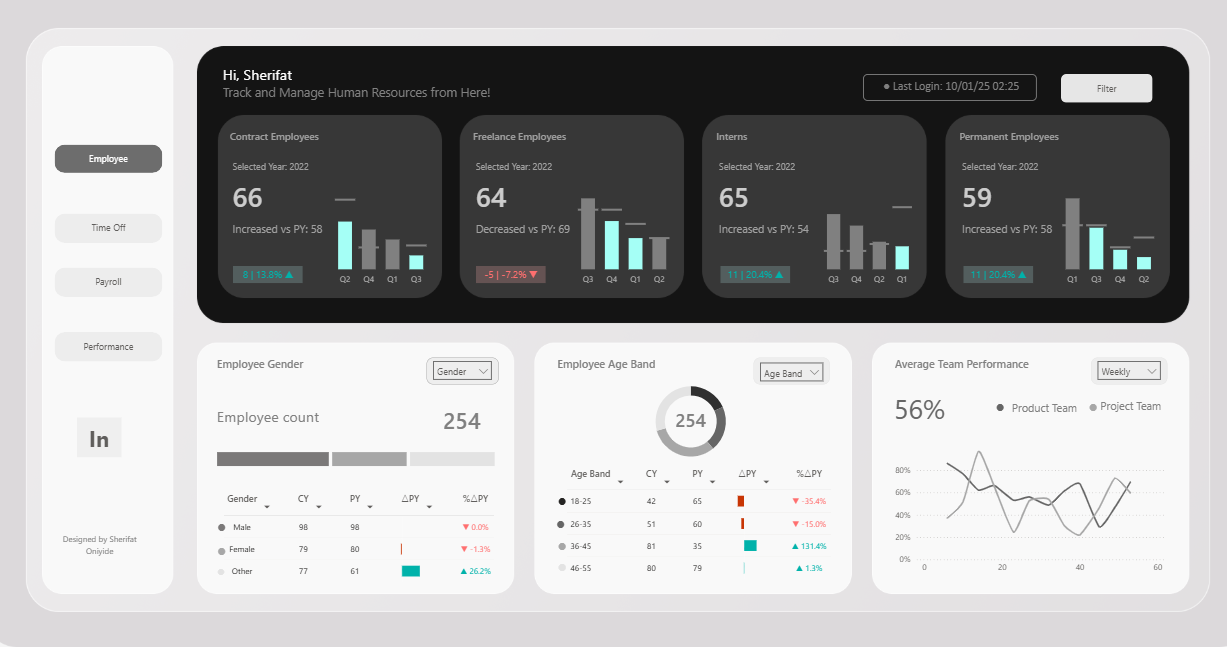

What the dashboard file says about the page in this screenshot:
{"tool":"powerbi","page":{"name":"Page 1","canvas":[1882,980],"ordinal":0},"visuals":[{"type":"textbox","box":[350.4,105,521.9,83.9],"z":0},{"type":"PBI_CV_9272D058_BEA0_476A_B090_A712545F92FA","fields":{"targets":["measure.PreviousYear"],"Category":["Date Table.Quarter"],"Value":["measure.CurrentYear"]},"box":[500,295,175,164.2],"z":1000},{"type":"cardVisual","fields":{"Data":["measure.CurrentYear"],"Rows":["new dataset.Employee Type"]},"box":[331.7,187,1489.4,269.4],"z":2000},{"type":"card","fields":{"Values":["measure.PY Values With Arrows"]},"box":[370,410,103,25],"z":3000},{"type":"card","fields":{"Values":["measure.PY Values With Arrows"]},"box":[730,410,103,25],"z":4000},{"type":"card","fields":{"Values":["measure.PY Values With Arrows"]},"box":[1093,410,103,25],"z":5000},{"type":"card","fields":{"Values":["measure.PY Values With Arrows"]},"box":[1453,410,103,25],"z":6000},{"type":"PBI_CV_9272D058_BEA0_476A_B090_A712545F92FA","fields":{"targets":["measure.PreviousYear"],"Category":["Date Table.Quarter"],"Value":["measure.CurrentYear"]},"box":[862,295,175,164.2],"z":7000},{"type":"PBI_CV_9272D058_BEA0_476A_B090_A712545F92FA","fields":{"targets":["measure.PreviousYear"],"Category":["Date Table.Quarter"],"Value":["measure.CurrentYear"]},"box":[1227,306.1,169.7,153],"z":8000},{"type":"PBI_CV_9272D058_BEA0_476A_B090_A712545F92FA","fields":{"targets":["measure.PreviousYear"],"Category":["Date Table.Quarter"],"Value":["measure.CurrentYear"]},"box":[1580,295,175.3,164.2],"z":9000},{"type":"card","title":" Current date","fields":{"Values":["measure.Current DateTime"]},"box":[1304.5,124.8,258.1,39.7],"z":10000},{"type":"actionButton","title":" Open Fiter","box":[1599.4,124.8,136.1,42.5],"z":16000},{"type":"actionButton","box":[104.6,229.3,160.3,42.3],"z":17000},{"type":"actionButton","box":[104.4,332.7,160.3,43.7],"z":18000},{"type":"actionButton","box":[105,412.8,160.3,43.7],"z":19000},{"type":"actionButton","box":[105,507.5,160.3,43.7],"z":20000},{"type":"actionButton","box":[139,634,66,59],"z":21000},{"type":"textbox","box":[91,800,161,63],"z":22000},{"type":"card","fields":{"Values":["Sum(new dataset.Employee Count)"]},"box":[662,601,96,74],"z":23000},{"type":"tableEx","fields":{"Values":["GenderSortTable.Gender","measure.table spacer","measure.CurrentYear","measure.table spacer","measure.PreviousYear","measure.table spacer","measure.Diff","measure.table spacer","measure.%Diff"]},"box":[349.1,732.5,420.5,190.4],"z":23000,"group":"g1"},{"type":"hundredPercentStackedBarChart","fields":{"Series":["GenderSortTable.Gender"],"Y":["CountNonNull(new dataset.Employee Count)"]},"box":[340,651,422,84],"z":24000},{"type":"textbox","box":[340,612,237,57],"z":25000},{"type":"textbox","box":[340,544,175,62],"z":26000},{"type":"card","title":" slicer empty card visual","fields":{"Values":["measure.Blank"]},"box":[657,546,107,40],"z":27000},{"type":"slicer","title":" employee card","fields":{"Values":["emp parameter.emp parameter"]},"box":[656.8,541,106.9,40.1],"z":28000},{"type":"card","title":" slicer empty card visual","fields":{"Values":["measure.Blank"]},"box":[1143,546,113,40],"z":29000},{"type":"tableEx","fields":{"Values":["AgeBandSortTable.Age Band","measure.table spacer","measure.CurrentYear","measure.table spacer","measure.PreviousYear","measure.table spacer","measure.Diff","measure.table spacer","measure.%Diff"]},"box":[859.4,694,420.8,202.6],"z":29000,"group":"g4"},{"type":"slicer","title":"Slicer agenand","fields":{"Values":["emp age band.emp age band"]},"box":[1142.1,543.2,113,40.1],"z":30000},{"type":"donutChart","fields":{"Category":["AgeBandSortTable.Age Band"],"Y":["CountNonNull(new dataset.Employee Count)"]},"box":[923.9,569.9,249.4,140.3],"z":31000},{"type":"card","fields":{"Values":["Sum(new dataset.Employee Count)"]},"box":[1013,612.2,71.2,53.4],"z":32000},{"type":"textbox","box":[845,544,173.7,51.2],"z":33000},{"type":"card","title":" slicer empty card visual","fields":{"Values":["measure.Blank"]},"box":[1643,545.5,113,40.1],"z":34000},{"type":"textbox","box":[340,808,29,67],"z":35000},{"type":"lineChart","fields":{"Category":["Date Table.Week Number"],"Y":["measure.AveragePerformanceByTeam"],"Series":["new dataset.Team"]},"box":[1346.9,670.1,409.6,204.8],"z":36000},{"type":"textbox","box":[846,733.9,25,55.7],"z":36000,"group":"g4"},{"type":"slicer","fields":{"Values":["line parameter.line parameter"]},"box":[1643,541,113,40.1],"z":37000},{"type":"textbox","box":[843,768.1,24.8,45],"z":37000,"group":"g4"},{"type":"card","fields":{"Values":["measure.AveragePerformanceByTeam"]},"box":[1326.9,563.3,122.4,113.5],"z":38000},{"type":"textbox","box":[340.6,772.3,28.6,57.2],"z":38000,"group":"g1"},{"type":"textbox","box":[1346.9,538.8,251.6,57.9],"z":39000},{"type":"textbox","box":[846,800.7,25,59.5],"z":39000,"group":"g4"},{"type":"group","id":"g1","title":"Group 1","box":[340.6,732.5,429.7,207.1],"z":40000},{"type":"textbox","box":[846,831.8,25,44.6],"z":40000,"group":"g4"},{"type":"textbox","box":[340.6,841.5,42.8,99.4],"z":40000,"group":"g1"},{"type":"group","id":"g2","title":"Group 2","box":[1635,594.4,138,80.1],"z":41000},{"type":"group","id":"g3","title":"Group 3","box":[1495,594.2,146.6,70.7],"z":42000},{"type":"group","id":"g4","title":"Group 4","box":[843,694,437.2,202.6],"z":43000},{"type":"textbox","box":[1653.2,601.6,119.8,37.4],"z":45000,"group":"g2"},{"type":"textbox","box":[1518.6,602.1,123,62.8],"z":46000,"group":"g3"},{"type":"textbox","box":[1495,594.2,39.3,55],"z":47000,"group":"g3"},{"type":"textbox","box":[1635,594.4,33.8,80.1],"z":48000,"group":"g2"}]}

Visuals, with their boxes in screenshot pixels (x1, y1, x2, y2), scaled from the page's 1882x980 canvas onto the 1227x647 screenshot:
textbox: (228,69,569,125)
PBI_CV_9272D058_BEA0_476A_B090_A712545F92FA - measure.PreviousYear x Date Table.Quarter: (326,195,440,303)
cardVisual - measure.CurrentYear x new dataset.Employee Type: (216,123,1187,301)
card - measure.PY Values With Arrows: (241,271,308,287)
card - measure.PY Values With Arrows: (476,271,543,287)
card - measure.PY Values With Arrows: (713,271,780,287)
card - measure.PY Values With Arrows: (947,271,1014,287)
PBI_CV_9272D058_BEA0_476A_B090_A712545F92FA - measure.PreviousYear x Date Table.Quarter: (562,195,676,303)
PBI_CV_9272D058_BEA0_476A_B090_A712545F92FA - measure.PreviousYear x Date Table.Quarter: (800,202,911,303)
PBI_CV_9272D058_BEA0_476A_B090_A712545F92FA - measure.PreviousYear x Date Table.Quarter: (1030,195,1144,303)
" Current date" card: (850,82,1019,109)
" Open Fiter" actionButton: (1043,82,1131,110)
actionButton: (68,151,173,179)
actionButton: (68,220,173,249)
actionButton: (68,273,173,301)
actionButton: (68,335,173,364)
actionButton: (91,419,134,458)
textbox: (59,528,164,570)
card - Sum(new dataset.Employee Count): (432,397,494,446)
tableEx - GenderSortTable.Gender x measure.table spacer: (228,484,502,609)
hundredPercentStackedBarChart - GenderSortTable.Gender x CountNonNull(new dataset.Employee Count): (222,430,497,485)
textbox: (222,404,376,442)
textbox: (222,359,336,400)
" slicer empty card visual" card: (428,360,498,387)
" employee card" slicer: (428,357,498,384)
" slicer empty card visual" card: (745,360,819,387)
tableEx - AgeBandSortTable.Age Band x measure.table spacer: (560,458,835,592)
"Slicer agenand" slicer: (745,359,818,385)
donutChart - AgeBandSortTable.Age Band x CountNonNull(new dataset.Employee Count): (602,376,765,469)
card - Sum(new dataset.Employee Count): (660,404,707,439)
textbox: (551,359,664,393)
" slicer empty card visual" card: (1071,360,1145,387)
textbox: (222,533,241,578)
lineChart - Date Table.Week Number x measure.AveragePerformanceByTeam: (878,442,1145,578)
textbox: (552,485,568,521)
slicer - line parameter.line parameter: (1071,357,1145,384)
textbox: (550,507,566,537)
card - measure.AveragePerformanceByTeam: (865,372,945,447)
textbox: (222,510,241,548)
textbox: (878,356,1042,394)
textbox: (552,529,568,568)
"Group 1" group: (222,484,502,620)
textbox: (552,549,568,579)
textbox: (222,556,250,621)
"Group 2" group: (1066,392,1156,445)
"Group 3" group: (975,392,1070,439)
"Group 4" group: (550,458,835,592)
textbox: (1078,397,1156,422)
textbox: (990,398,1070,439)
textbox: (975,392,1000,429)
textbox: (1066,392,1088,445)
